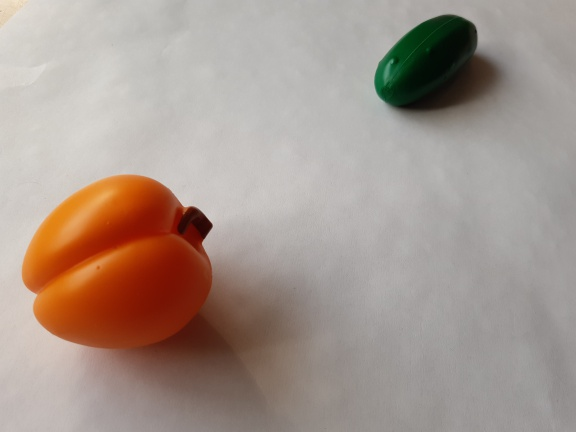apricot: (10, 167, 228, 357)
cucumber: (363, 7, 492, 115)
